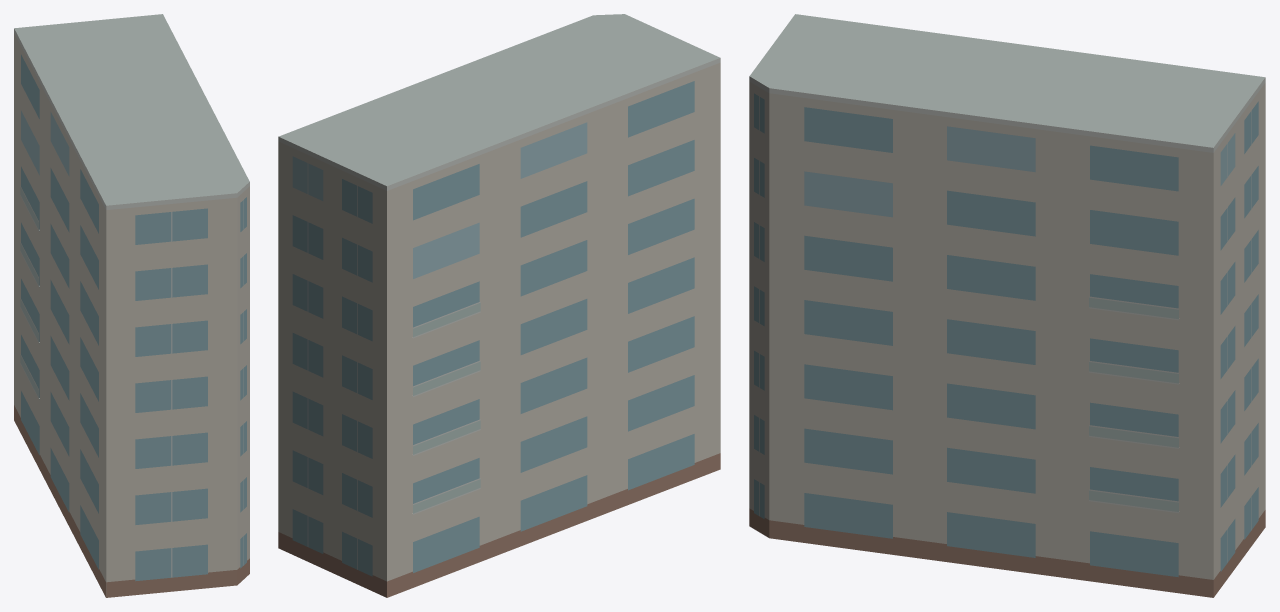
File: survey-upis-32528323.glb
3 renders of one model, left to right at view 1: azimuth 30°, elevation 25°; view 2: azimuth 150°, elevation 25°; view 3: azimuth 270°, elevation 25°, orthographic. The views are drawn at different scales.
Visible parts, largest first — view 1: survey-upis-32528323.tmp; view 2: survey-upis-32528323.tmp; view 3: survey-upis-32528323.tmp.
Part boxes in pixels (box(x1,y1,x2,y2)): survey-upis-32528323.tmp: box(14, 14, 249, 597); survey-upis-32528323.tmp: box(278, 14, 720, 597); survey-upis-32528323.tmp: box(749, 14, 1265, 597).
Size of the model in its own units: 13.66 by 21.4 by 22.25.
